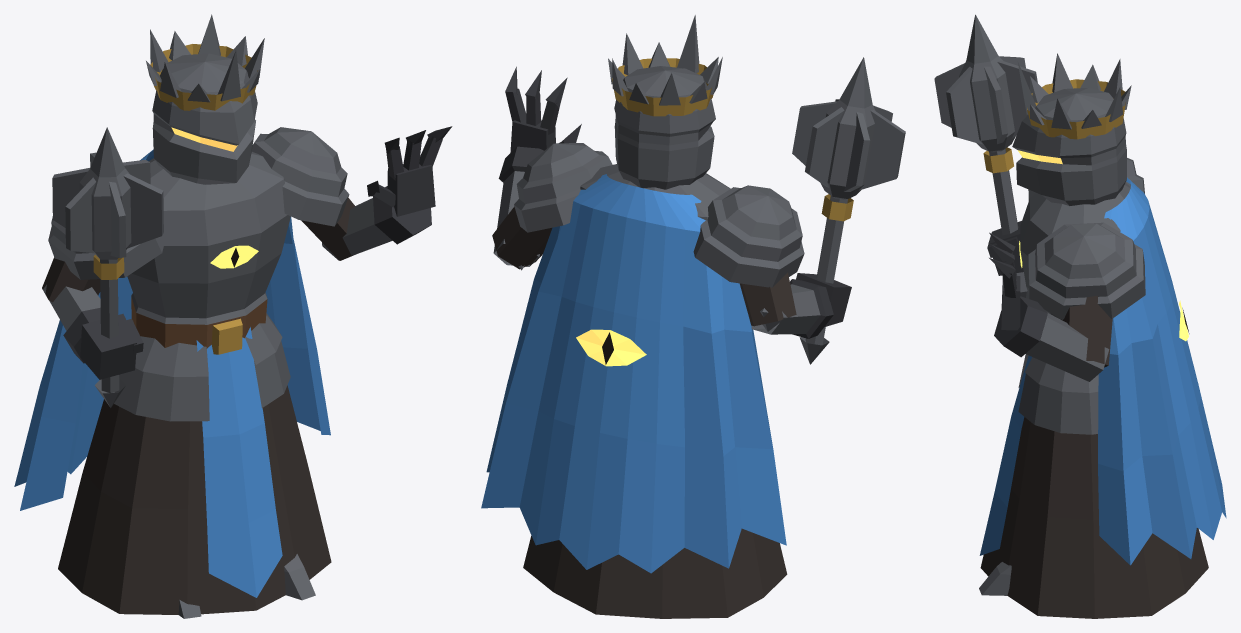
Rendered from sauron.glb.
3 views of the same model, side by side, from view 1: azimuth 30°, elevation 25°; view 2: azimuth 150°, elevation 25°; view 3: azimuth 270°, elevation 25° (orthographic). The views are drawn at different scales.
Visible parts, largest first — view 1: sauron; view 2: sauron; view 3: sauron.
Part boxes in pixels (x1=…): sauron: x1=14, y1=14, x2=452, y2=618; sauron: x1=481, y1=15, x2=905, y2=618; sauron: x1=934, y1=14, x2=1226, y2=618.
Bounding box in the file's own units: 1.61 × 2.13 × 1.11.
